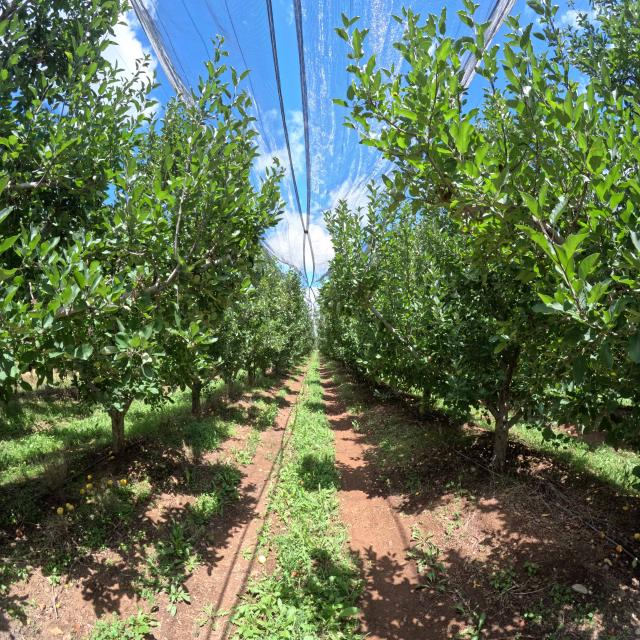-FireBlight-: (131, 272, 145, 304)
